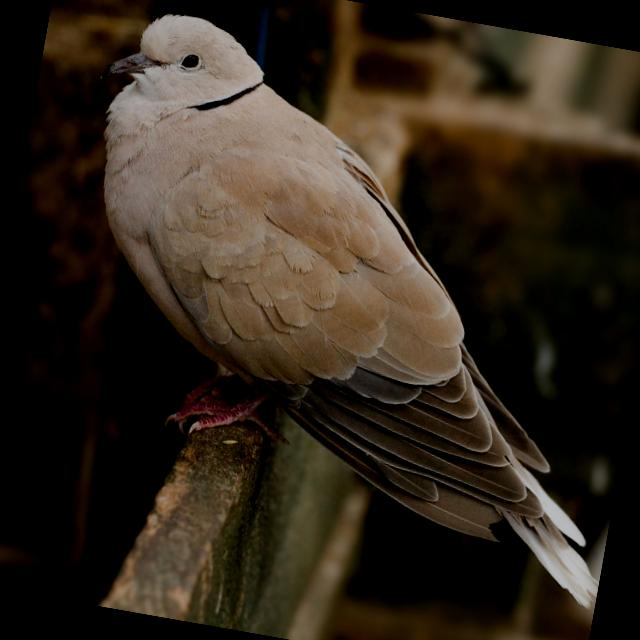bird: (27, 0, 640, 611)
